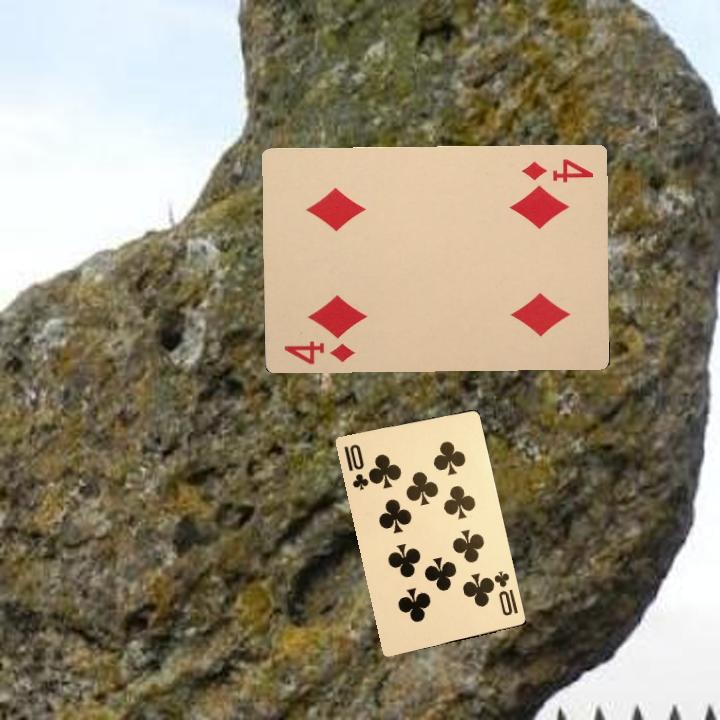10c: (486, 567, 520, 619), (340, 440, 373, 493)
4d: (517, 155, 597, 185), (280, 337, 357, 367)
